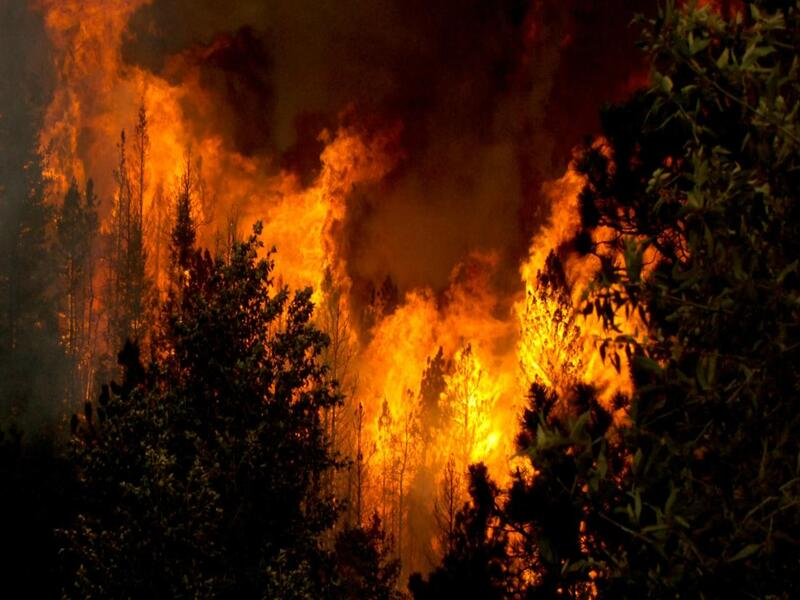fire: (99, 124, 624, 515)
